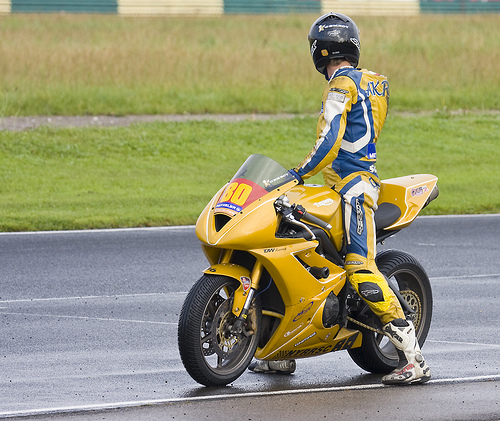helmet: (306, 9, 362, 58)
